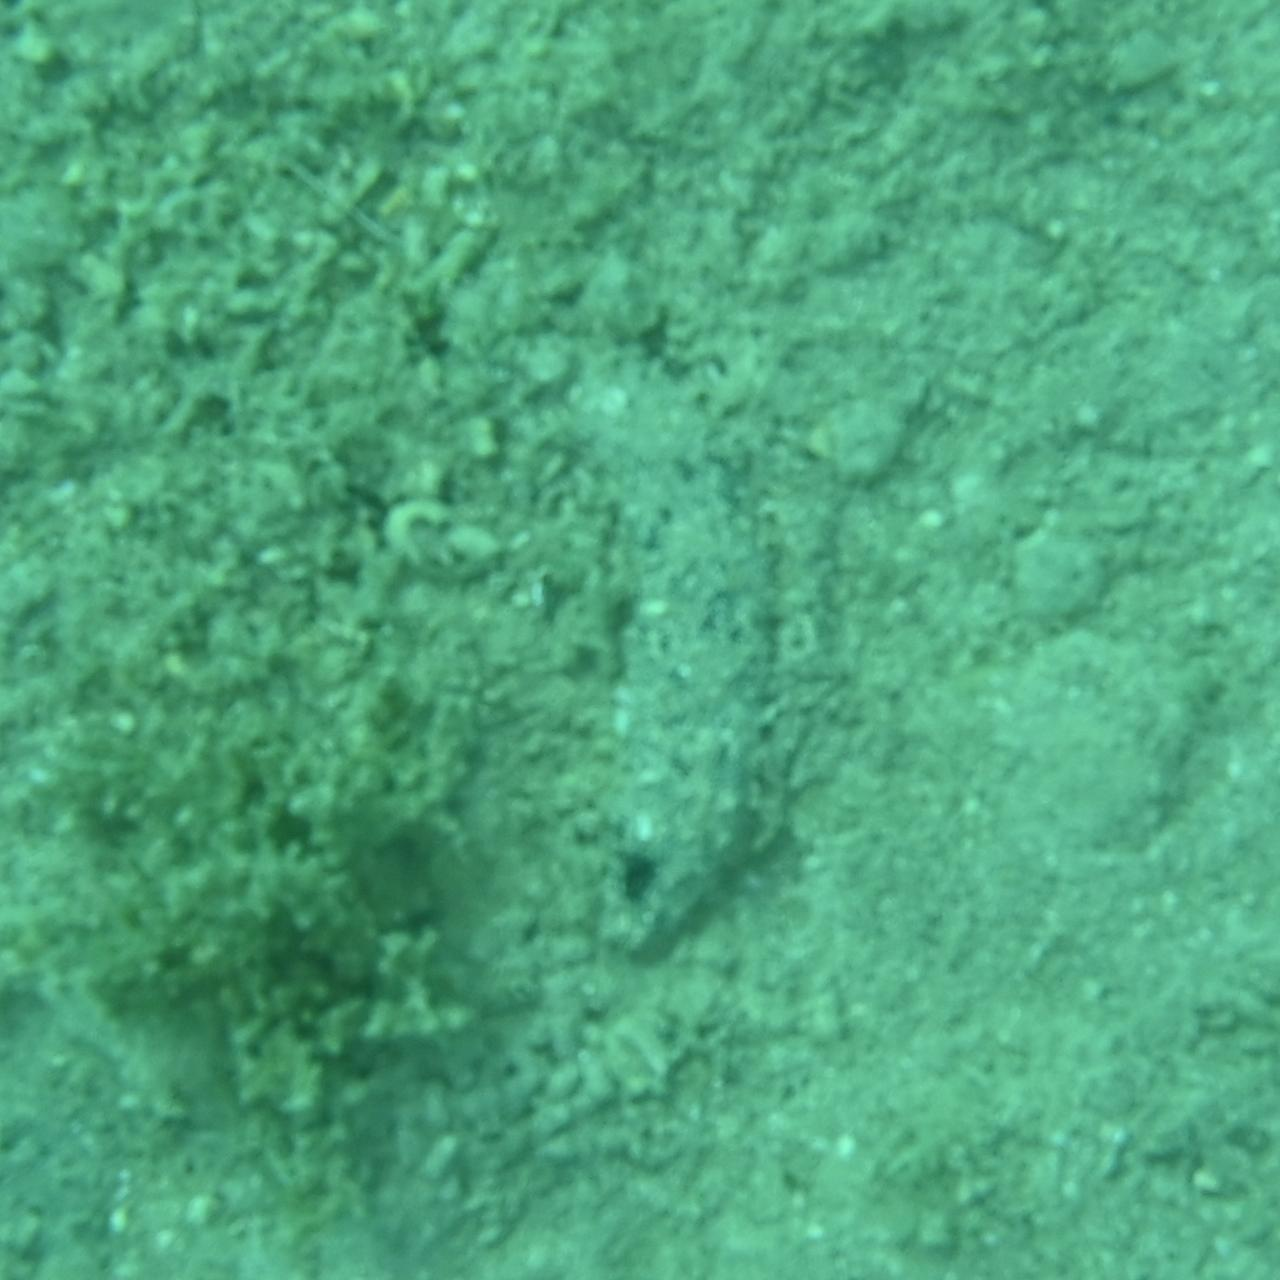Holothuria tubulosa: (477, 316, 803, 964)
